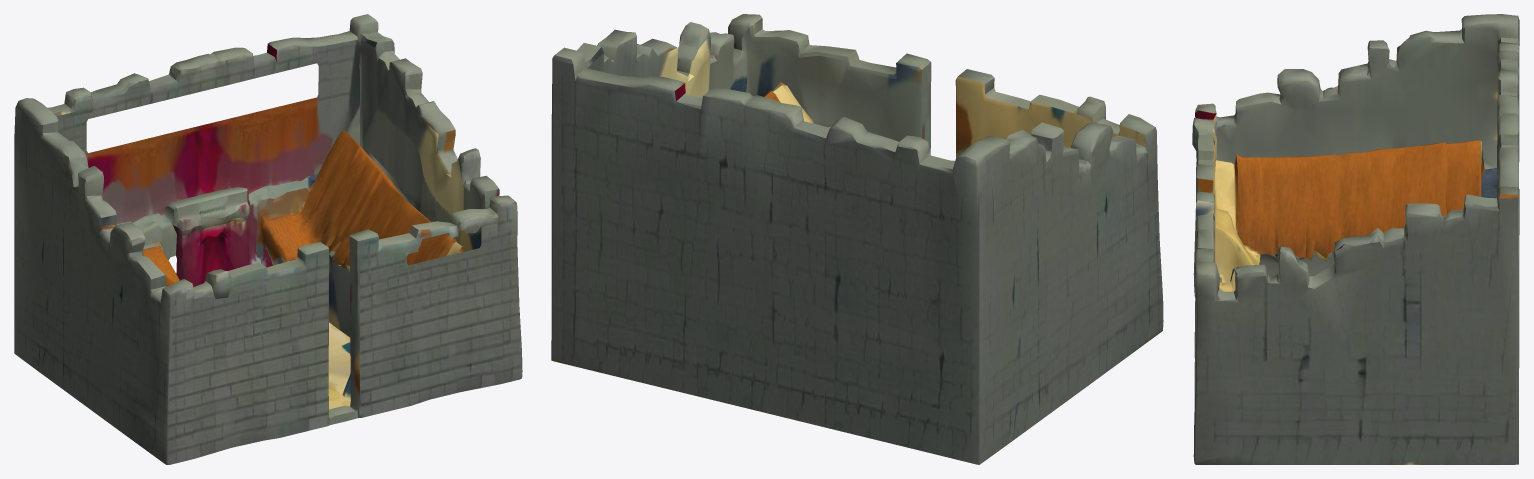
The model's file is tawantinsuyu_aqllawasi.glb.
The picture shows the model from 3 angles, left to right: view 1: azimuth 30°, elevation 25°; view 2: azimuth 150°, elevation 25°; view 3: azimuth 270°, elevation 25°; orthographic projection. The views are drawn at different scales.
Visible parts, largest first — view 1: geometry_0; view 2: geometry_0; view 3: geometry_0.
Boxes of the visible parts, x1,y1,x2,y2 form: geometry_0: (14,14,522,464); geometry_0: (551,14,1163,464); geometry_0: (1192,14,1519,464).
Size of the model in its own units: 3.4 by 2.32 by 2.55.
1 material, 1 textured.
